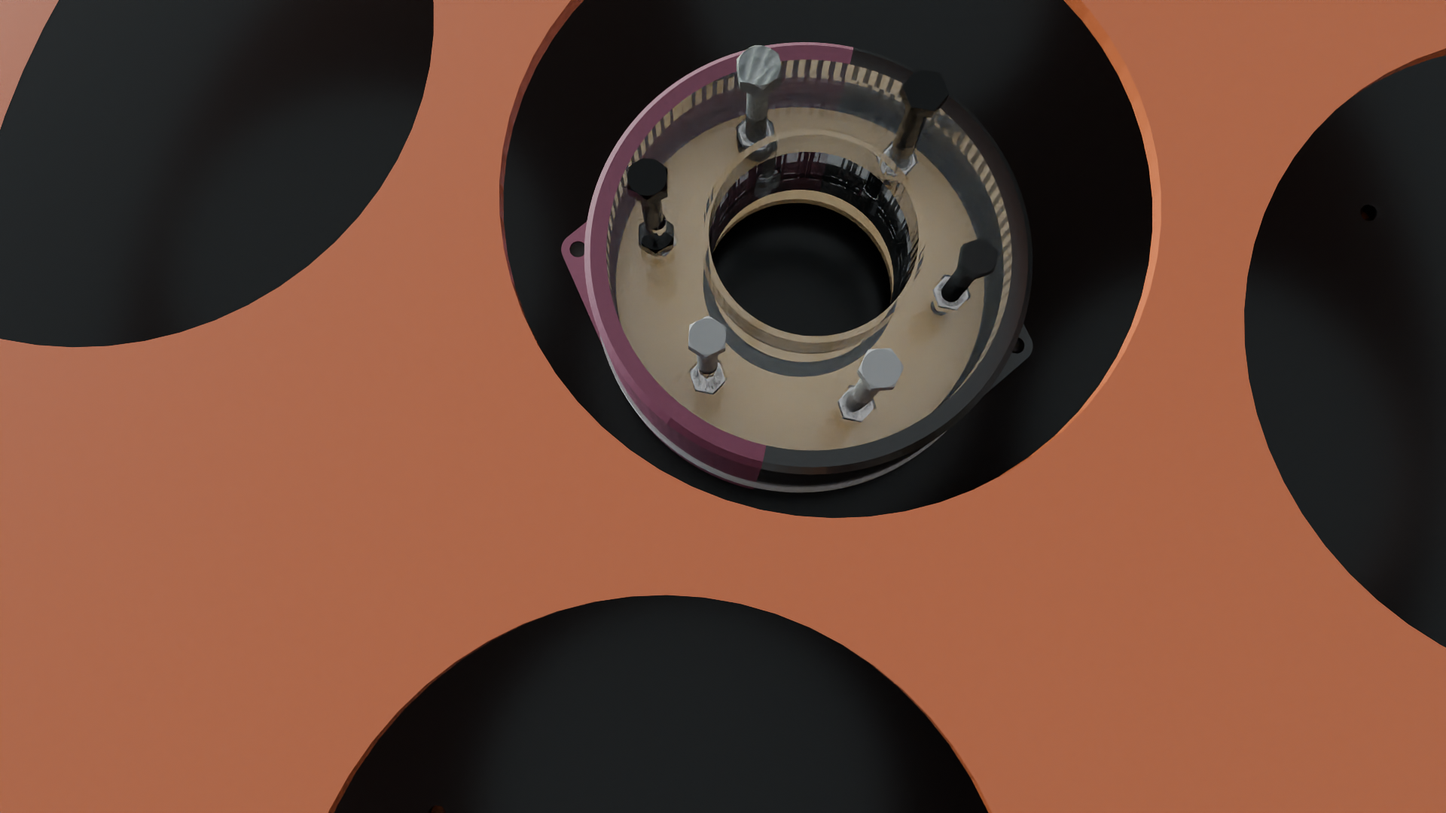bolt: (737, 45, 782, 90), (902, 69, 949, 111), (859, 349, 905, 388), (627, 157, 668, 200), (688, 316, 727, 358), (960, 238, 998, 276)
